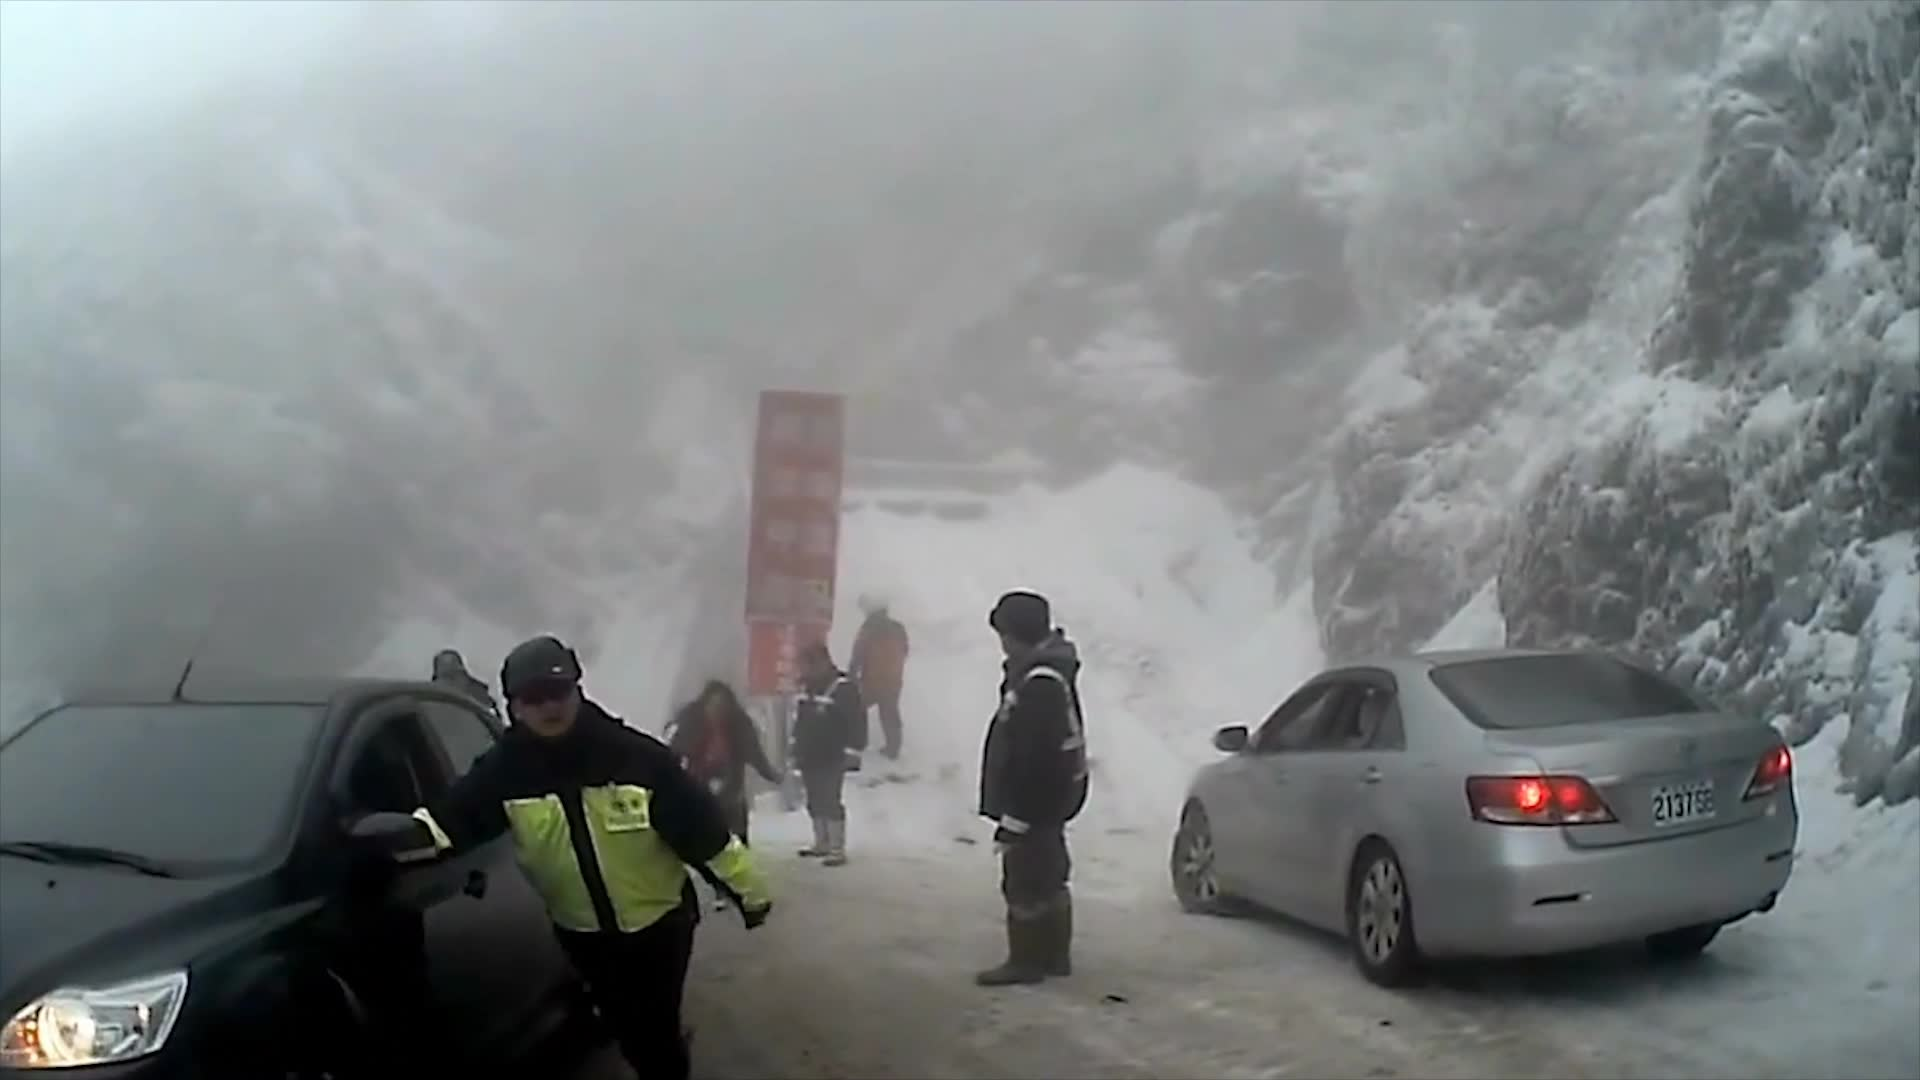pedestrian: (372, 638, 767, 1080), (957, 585, 1088, 984), (663, 671, 781, 913), (791, 641, 863, 864), (838, 582, 908, 757)
vehicle: (0, 673, 631, 1080), (1161, 639, 1797, 984)
